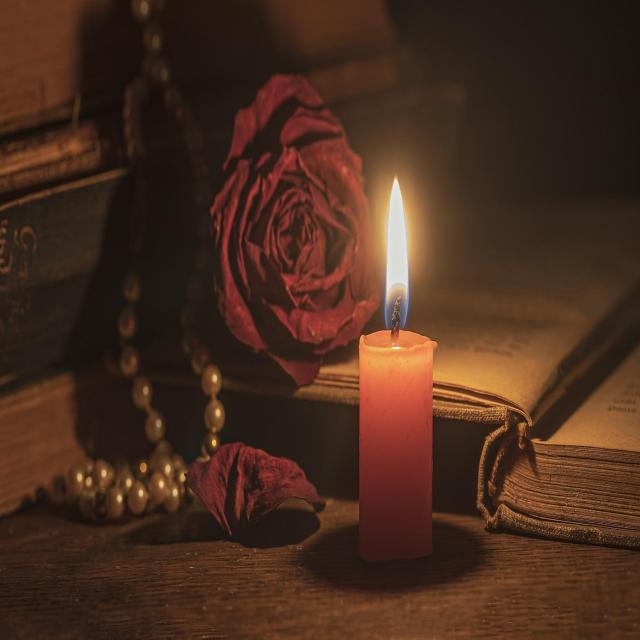Fire_Save: (357, 174, 437, 562)
